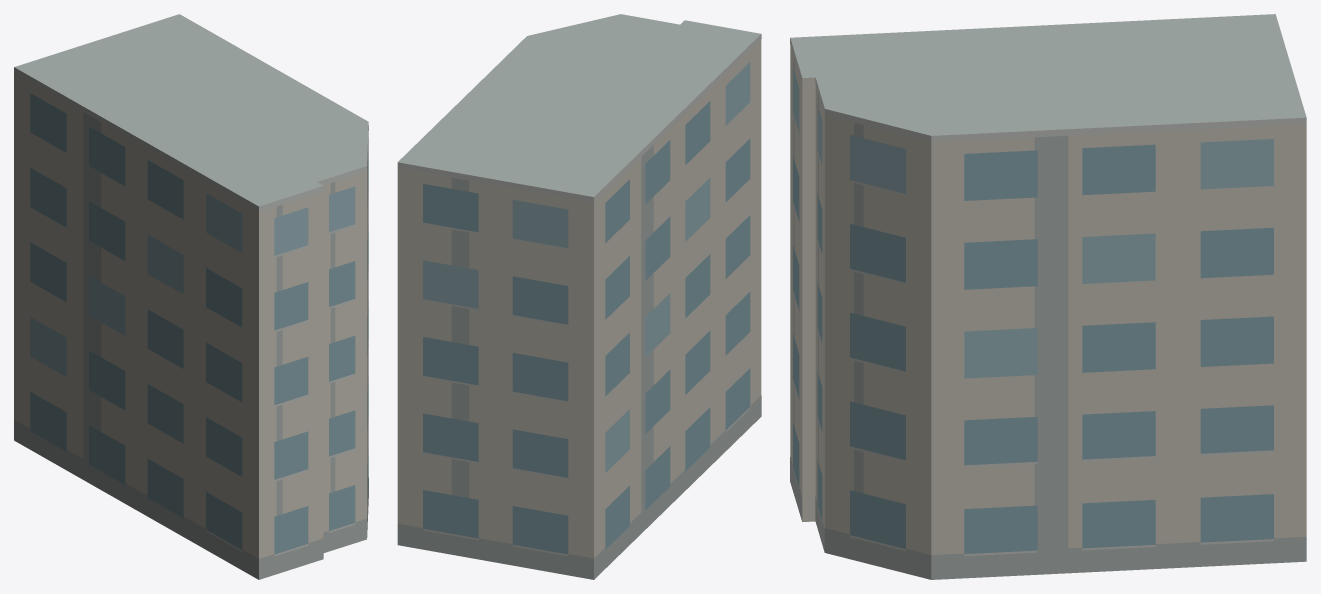
File: survey-upis-32744960.glb
3 renders of one model, left to right at view 1: azimuth 30°, elevation 25°; view 2: azimuth 150°, elevation 25°; view 3: azimuth 270°, elevation 25°, orthographic. The views are drawn at different scales.
Visible parts, largest first — view 1: survey-upis-32744960.tmp; view 2: survey-upis-32744960.tmp; view 3: survey-upis-32744960.tmp.
Boxes of the visible parts, x1=… form: survey-upis-32744960.tmp: x1=14, y1=14, x2=368, y2=579; survey-upis-32744960.tmp: x1=397, y1=14, x2=761, y2=579; survey-upis-32744960.tmp: x1=790, y1=14, x2=1306, y2=579.
Bounding box in the file's own units: 9.66 × 16.4 × 17.3.
